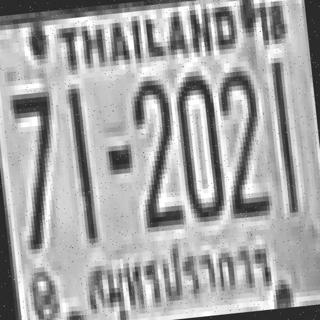N00: (172, 70, 223, 219)
N01: (66, 86, 96, 242), (269, 58, 297, 213)
N02: (128, 72, 180, 226), (215, 63, 267, 216)
N07: (9, 87, 62, 250)
P57: (78, 233, 278, 319)
